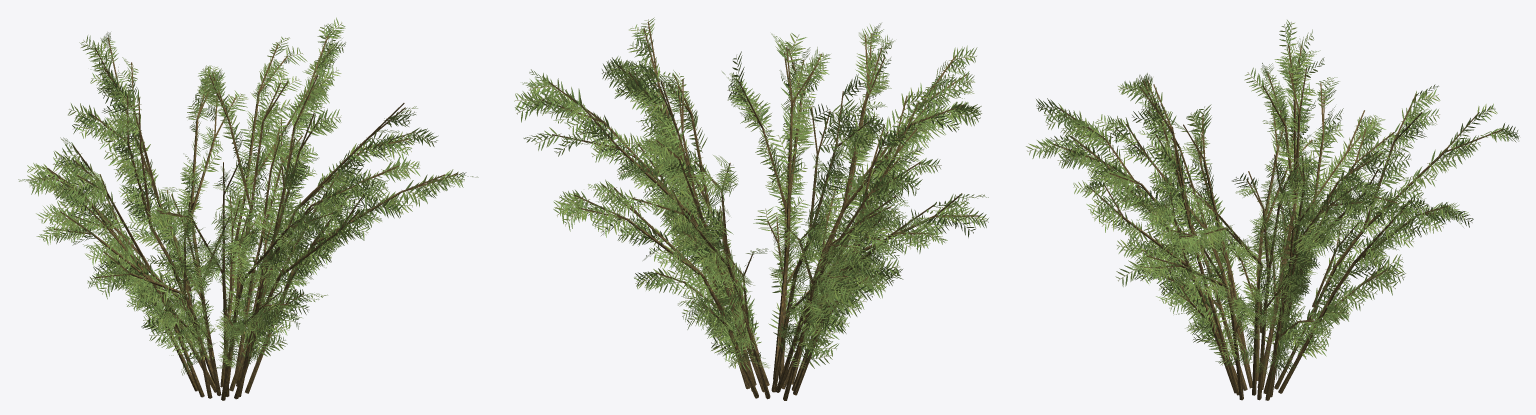
File: willow_shrub_v01_LOD1.glb
The picture shows the model from 3 angles, left to right: view 1: azimuth 30°, elevation 25°; view 2: azimuth 150°, elevation 25°; view 3: azimuth 270°, elevation 25°; orthographic projection. The views are drawn at different scales.
Visible parts, largest first — view 1: willow_shrub_v01_LOD1; view 2: willow_shrub_v01_LOD1; view 3: willow_shrub_v01_LOD1.
Part boxes in pixels (x1,y1,x2,y2): willow_shrub_v01_LOD1: [18, 17, 478, 400]; willow_shrub_v01_LOD1: [514, 17, 988, 400]; willow_shrub_v01_LOD1: [1026, 20, 1519, 400].
Bounding box in the file's own units: 3.87 × 3.2 × 4.36.
2 materials, 2 textured.
